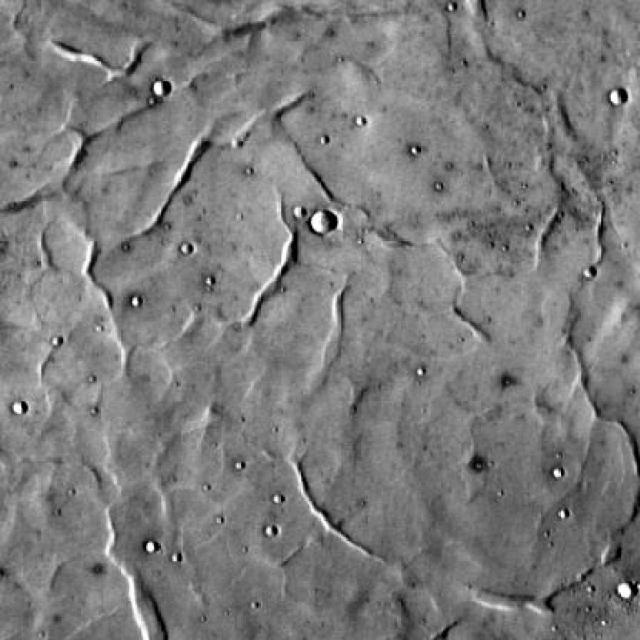crater: (311, 212, 337, 234), (617, 582, 637, 600), (154, 80, 172, 98), (608, 88, 628, 104)
